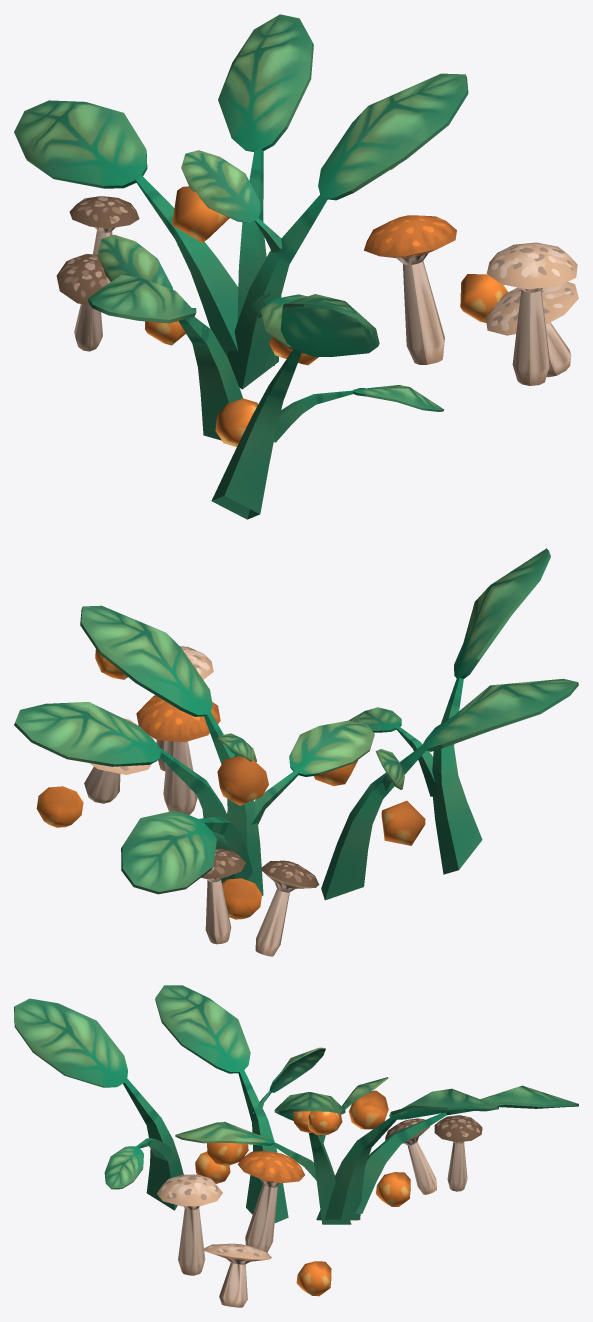
The model's file is Nature_04.fbx.
The picture shows the model from 3 angles, top to bottom: view 1: azimuth 30°, elevation 25°; view 2: azimuth 150°, elevation 25°; view 3: azimuth 270°, elevation 25°; orthographic projection. The views are drawn at different scales.
Parts seen in each view (by area): view 1: Nature_04; view 2: Nature_04; view 3: Nature_04.
Boxes of the visible parts, box(x1,y1,x2,y2) form: Nature_04: box(14, 14, 578, 519); Nature_04: box(14, 548, 578, 956); Nature_04: box(14, 985, 578, 1307).
Bounding box in the file's own units: 80.74 × 44.31 × 108.
